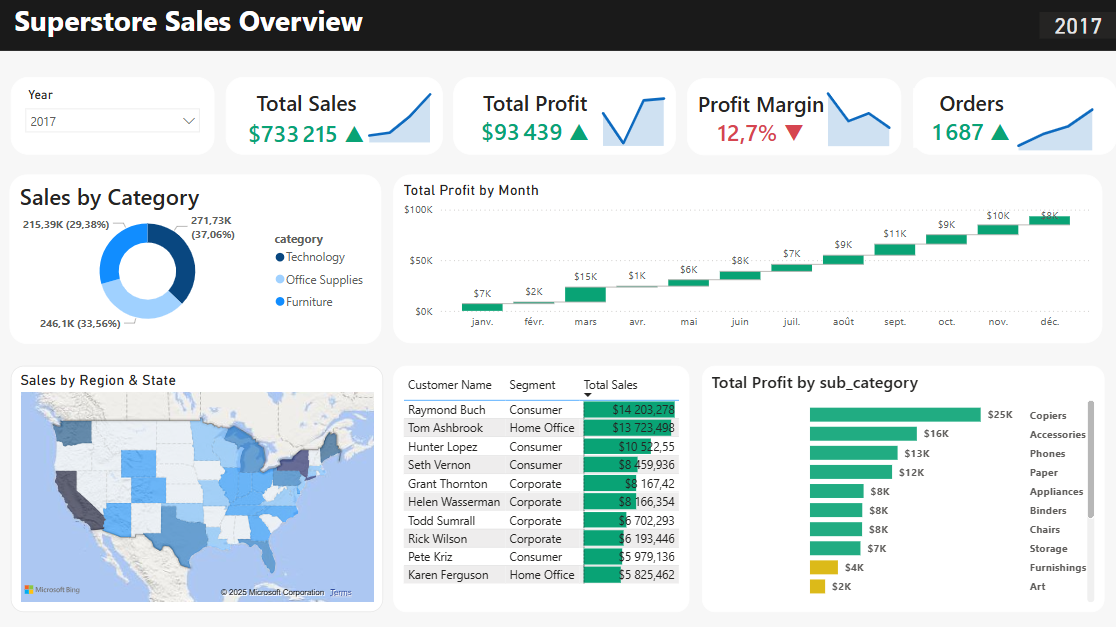

This screenshot's page, from the dashboard's own definition file:
{"tool":"powerbi","page":{"name":"Superstore Sales Report 1","canvas":[1280,720],"ordinal":0},"visuals":[{"type":"textbox","box":[1047.1,91.4,232.9,88.6],"z":0},{"type":"textbox","box":[788,92.9,245,88.3],"z":1000},{"type":"textbox","box":[521.9,91.4,254.4,88.9],"z":2000},{"type":"textbox","box":[261.9,91.4,247.8,88.9],"z":3000},{"type":"textbox","box":[0,0,1280,61.7],"z":4000},{"type":"card","title":"Total Sales","fields":{"Values":["Metrics.Sales w/ Arrow"]},"box":[273.5,104.7,161.7,71.7],"z":5000},{"type":"areaChart","fields":{"Category":["TimeTable.Year","TimeTable.Quarter"],"Y":["Metrics.Total Sales"]},"box":[411.5,91.7,98,80],"z":6000},{"type":"card","title":"Total Profit","fields":{"Values":["Metrics.Profit w/ Delta"]},"box":[534.1,104.7,161.7,68.3],"z":7000},{"type":"areaChart","fields":{"Category":["TimeTable.Year","TimeTable.Quarter"],"Y":["Metrics.Total Profit"]},"box":[679.1,91.7,98,84],"z":8000},{"type":"card","title":"Profit Margin","fields":{"Values":["Metrics.Margin w/ Delta"]},"box":[795.3,105.6,155,68.3],"z":9000},{"type":"areaChart","fields":{"Category":["TimeTable.Year","TimeTable.Quarter"],"Y":["Metrics.Profit Margin"]},"box":[935.7,92.9,98.6,82.9],"z":10000},{"type":"card","title":"Orders","fields":{"Values":["Metrics.Orders w/ Delta"]},"box":[1047.7,105,133.3,68.3],"z":11000},{"type":"areaChart","fields":{"Category":["TimeTable.Year","TimeTable.Quarter"],"Y":["Metrics.Total Orders"]},"box":[1151,97.3,116.7,83.3],"z":12000},{"type":"donutChart","title":"Sales by Category","fields":{"Category":["Products.category"],"Y":["OrderDetails.sales"]},"box":[14.4,202.9,425,193.3],"z":13000},{"type":"filledMap","title":"Sales by Region & State","fields":{"Category":["Regions.state"]},"box":[15.7,421.4,425.7,281.4],"z":14000},{"type":"tableEx","fields":{"Values":["Customers.customer_name","Customers.segment","Metrics.Total Sales"]},"box":[452.9,421.4,338.6,281.4],"z":15000},{"type":"barChart","title":"Total Profit by sub_category","fields":{"Y":["Metrics.Total Profit"],"Category":["Products.sub_category"]},"box":[806.1,421.2,460,281.7],"z":16000},{"type":"waterfallChart","title":"Total Profit by Month","fields":{"Y":["Metrics.Total Profit"],"Category":["TimeTable.Date Hiérarchie.Year","TimeTable.Date Hiérarchie.Quarter","TimeTable.Date Hiérarchie.Month Short","TimeTable.Date Hiérarchie.Month"]},"box":[452.9,202.9,810,192.9],"z":17000},{"type":"slicer","fields":{"Values":["TimeTable.Year"]},"box":[15.7,91.4,232.9,88.6],"z":18000},{"type":"card","fields":{"Values":["Customers.Year Selected"]},"box":[1191.7,16.7,88.3,30],"z":19000}]}

Visuals, with their boxes in screenshot pixels (x1, y1, x2, y2), scaled from the page's 1280x720 canvas onto the 1116x627 screenshot:
textbox: [913, 80, 1115, 157]
textbox: [687, 81, 901, 158]
textbox: [455, 80, 677, 157]
textbox: [228, 80, 444, 157]
textbox: [0, 0, 1115, 54]
"Total Sales" card: [238, 91, 379, 154]
areaChart - TimeTable.Year x TimeTable.Quarter: [359, 80, 444, 150]
"Total Profit" card: [466, 91, 607, 151]
areaChart - TimeTable.Year x TimeTable.Quarter: [592, 80, 678, 153]
"Profit Margin" card: [693, 92, 829, 151]
areaChart - TimeTable.Year x TimeTable.Quarter: [816, 81, 902, 153]
"Orders" card: [913, 91, 1030, 151]
areaChart - TimeTable.Year x TimeTable.Quarter: [1004, 85, 1105, 157]
"Sales by Category" donutChart: [13, 177, 383, 345]
"Sales by Region & State" filledMap: [14, 367, 385, 612]
tableEx - Customers.customer_name x Customers.segment: [395, 367, 690, 612]
"Total Profit by sub_category" barChart: [703, 367, 1104, 612]
"Total Profit by Month" waterfallChart: [395, 177, 1101, 345]
slicer - TimeTable.Year: [14, 80, 217, 157]
card - Customers.Year Selected: [1039, 15, 1115, 41]
